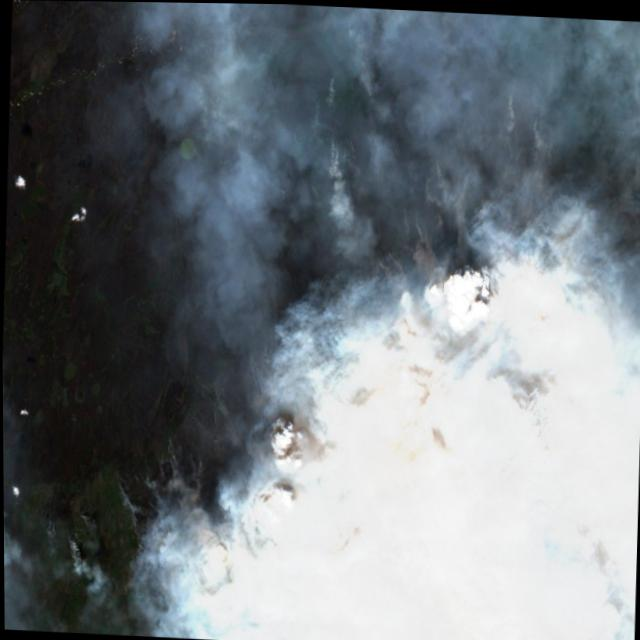fire: (0, 0, 575, 609)
